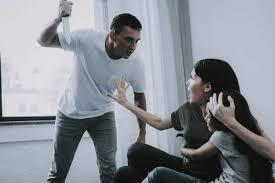Knife: (61, 11, 72, 45)
